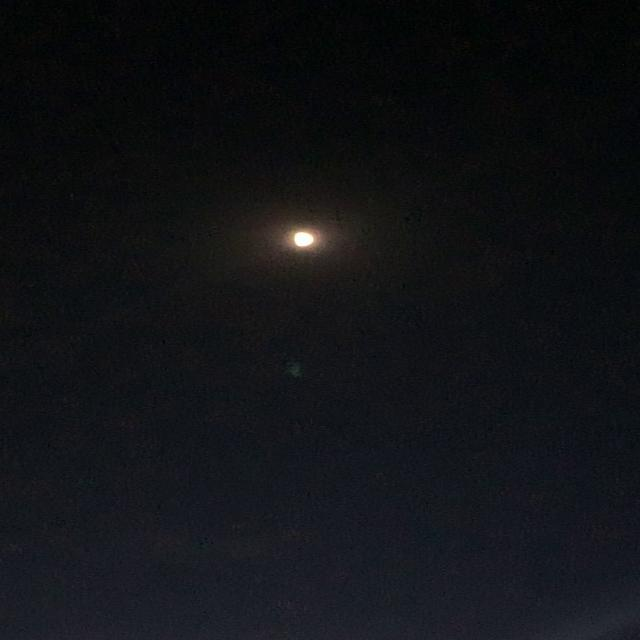moon: (286, 238, 328, 262)
